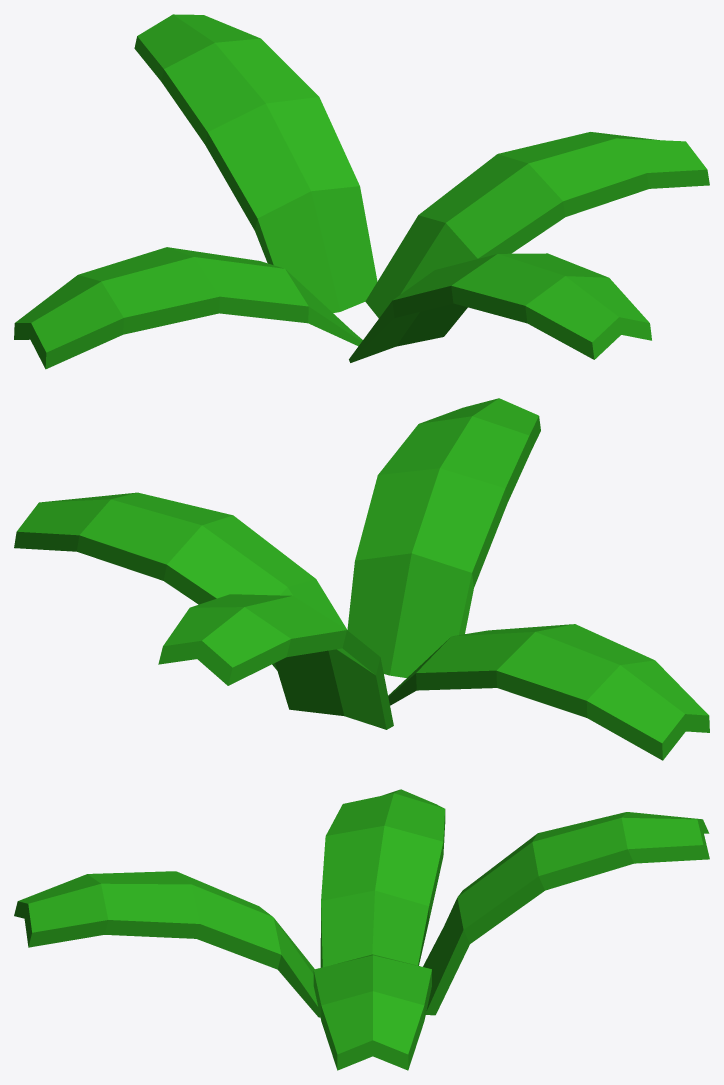
Rendered from SmallBush_Light_High.fbx.
3 views of the same model, one above another, from view 1: azimuth 30°, elevation 25°; view 2: azimuth 150°, elevation 25°; view 3: azimuth 270°, elevation 25° (orthographic). The views are drawn at different scales.
Visible parts, largest first — view 1: SmallBush_Light_High; view 2: SmallBush_Light_High; view 3: SmallBush_Light_High.
Boxes of the visible parts, x1,y1,x2,y2 form: SmallBush_Light_High: [14, 14, 709, 369]; SmallBush_Light_High: [14, 398, 709, 760]; SmallBush_Light_High: [14, 789, 709, 1070].
Bounding box in the file's own units: 105 × 29.12 × 107.
